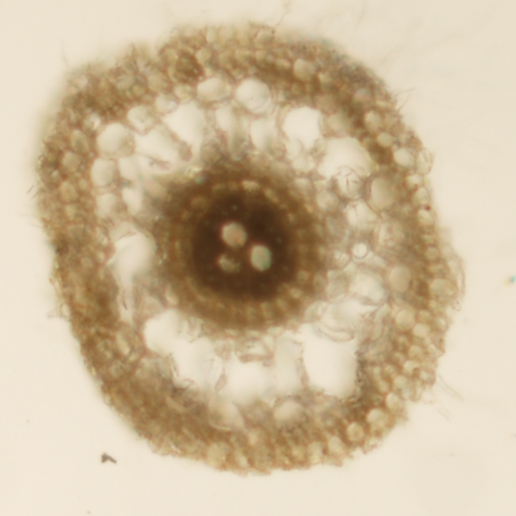lm: (221, 222, 247, 247), (250, 245, 273, 271), (216, 254, 241, 274)
